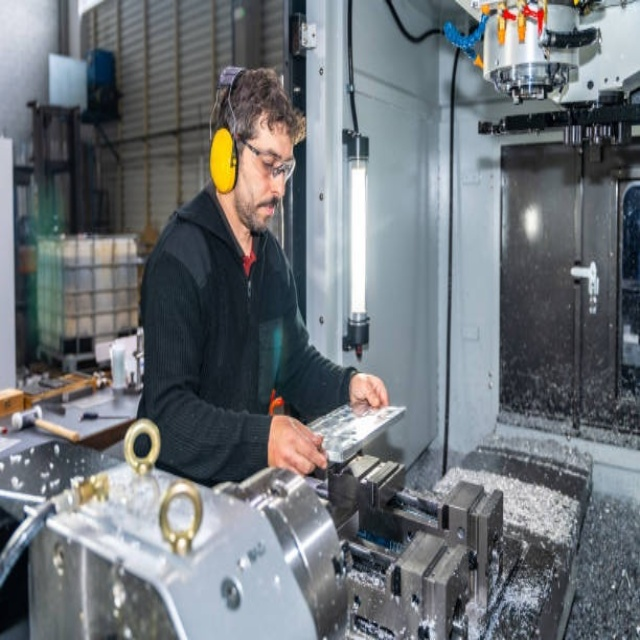Gafas: (239, 135, 297, 187)
Sin_guantes: (268, 412, 329, 477), (350, 371, 388, 411)
Sin_mascara: (253, 195, 282, 232)
